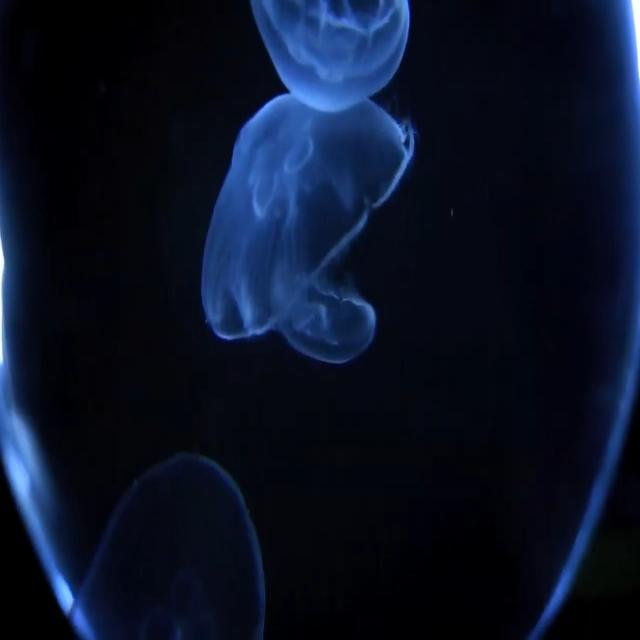Moon-jellyfish: (200, 0, 418, 368)
